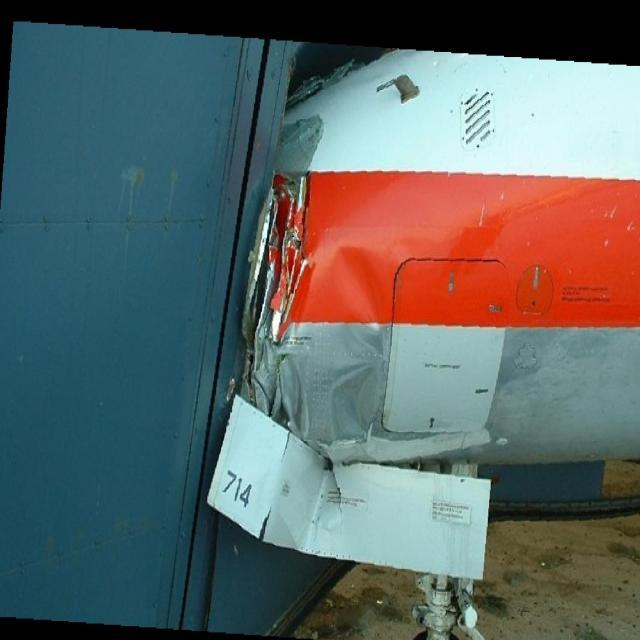dent: (331, 250, 388, 453)
